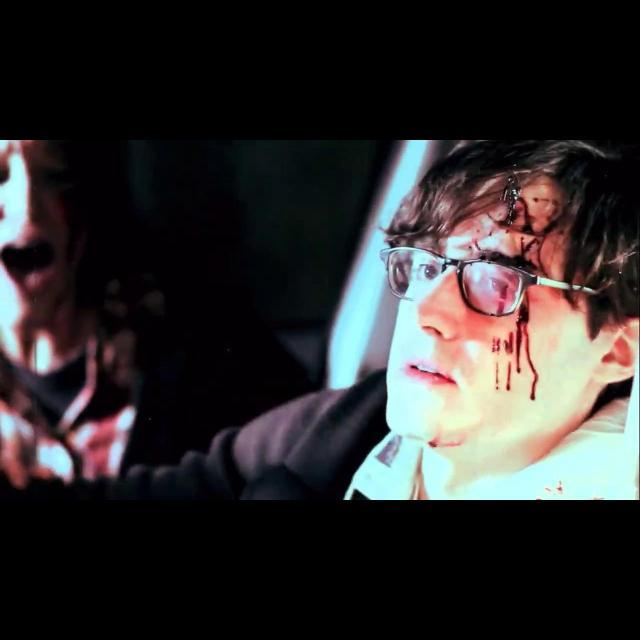blood: (501, 175, 570, 289), (492, 288, 540, 400), (458, 218, 515, 251), (429, 437, 461, 453), (495, 286, 508, 313)
